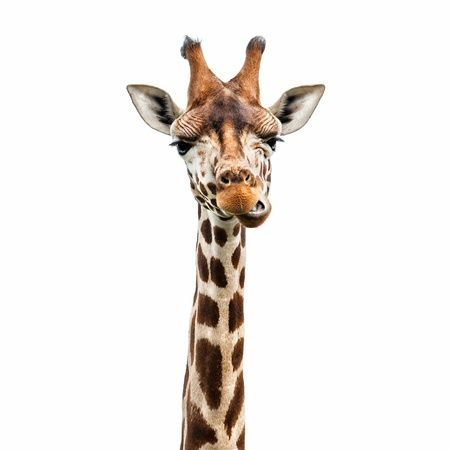Jirafa: (105, 23, 331, 450)
